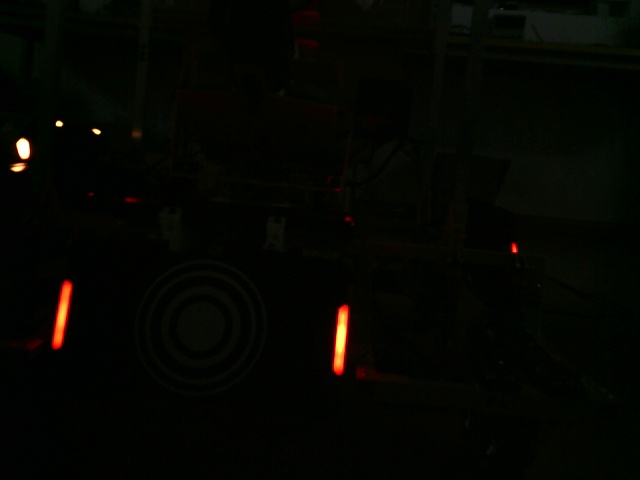lamp: (50, 273, 77, 355), (331, 302, 351, 376)
